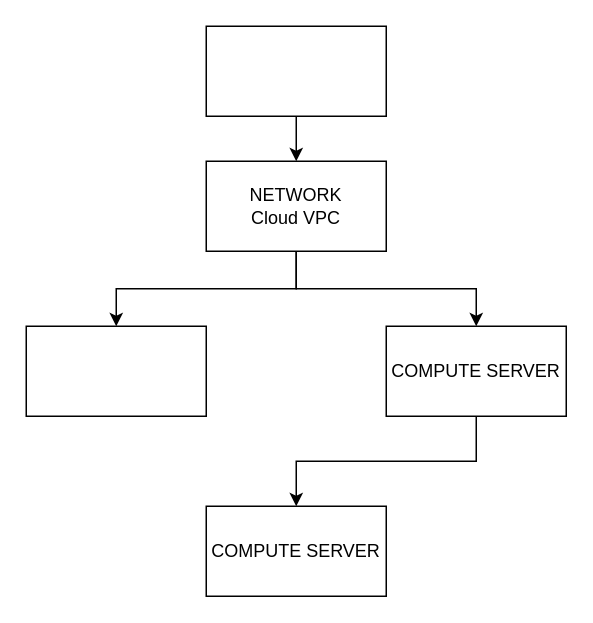
Image size: 593x623. Some labels were removed from this diagram. The centre of each missing label's shape, as x and y in pixels:
INTERNET: (x=295, y=70)
USER: (x=115, y=370)
